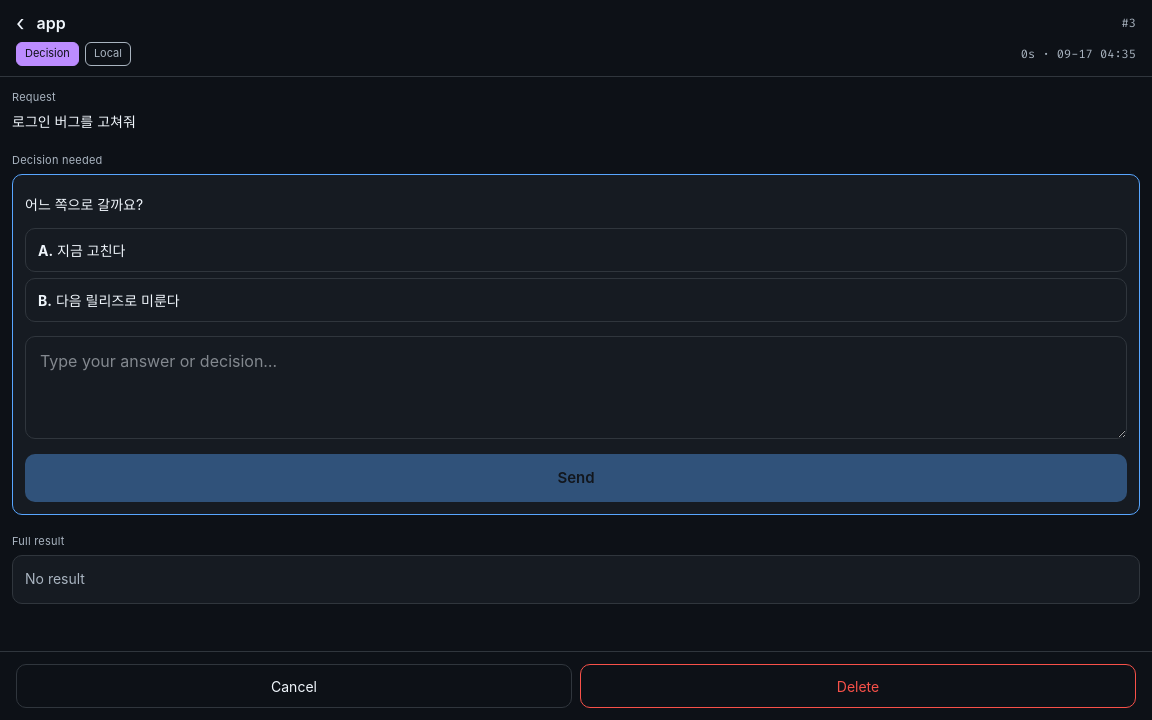
it: MobileTicketDetail — the parked question › turns the agent options into taps that fill the answer box
The image size is (1152, 720).
What coordinates should you click on to do the following:
click the button "A. 지금 고친다"
I would click on:
 (91, 250)
Its box is left=25, top=228, right=1127, bottom=272.
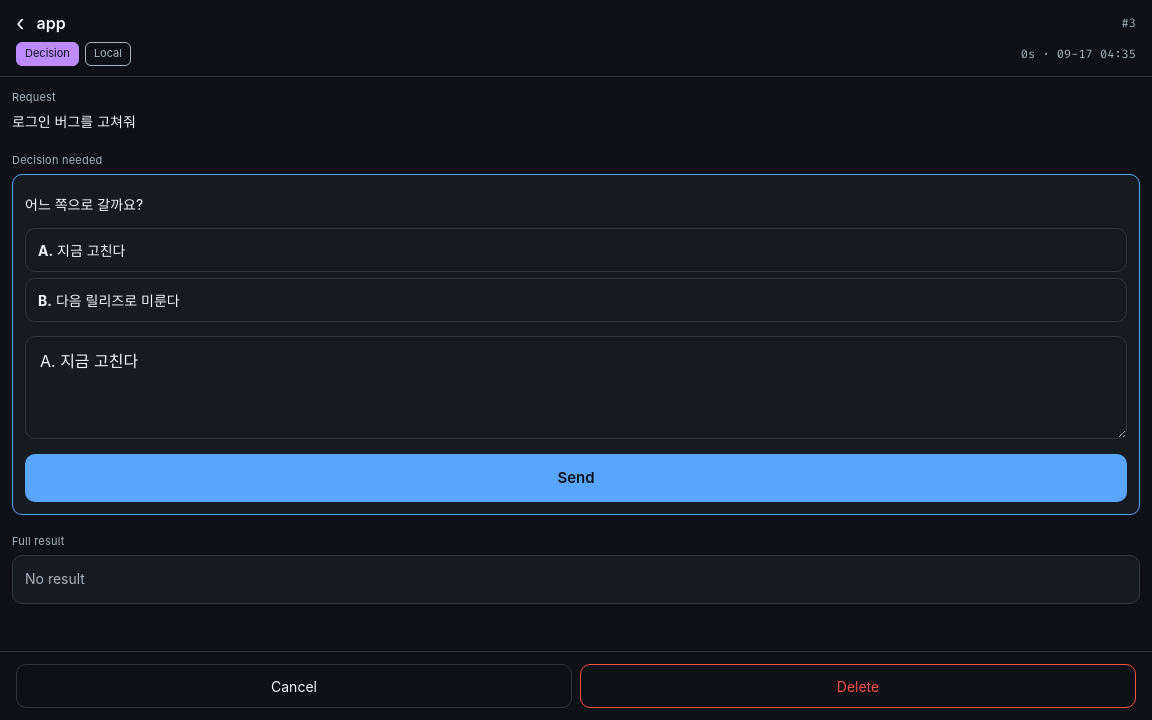
Expected: the text box holds "A. 지금 고친다", left=25, top=336, right=1127, bottom=439
